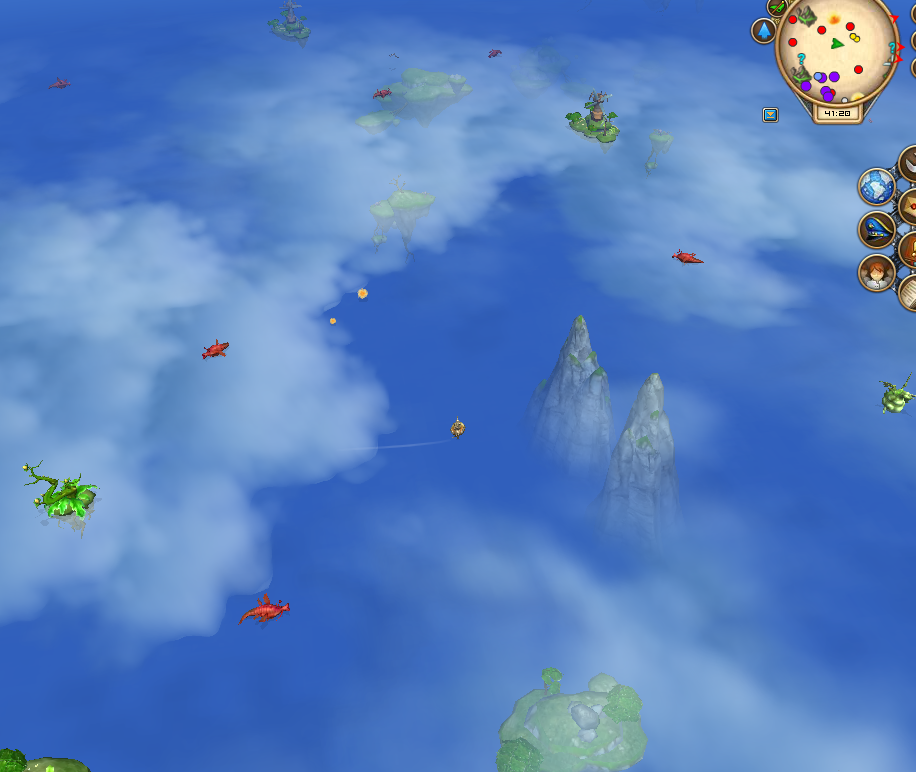dandelion-empty: (17, 458, 104, 538)
fluff: (356, 286, 372, 303), (327, 314, 339, 329)
